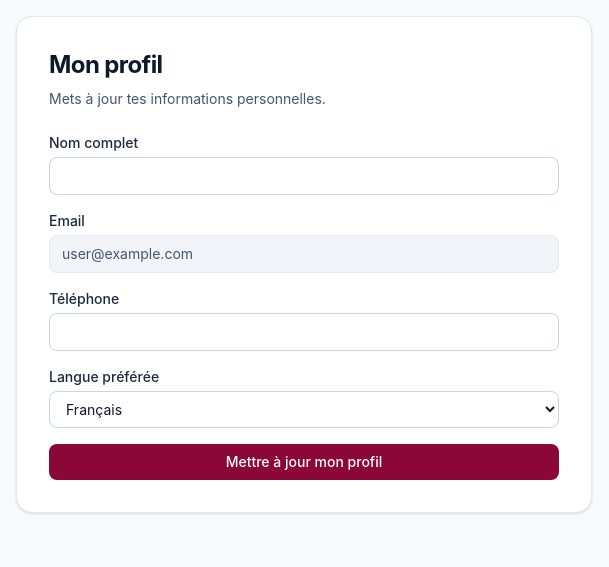
Test: ProfilePage › updates profile and displays success message
In the field labelled "Nom complet": {"x": 304, "y": 176} x1=49 y1=157 x2=559 y2=195, type "Jean Dupont"
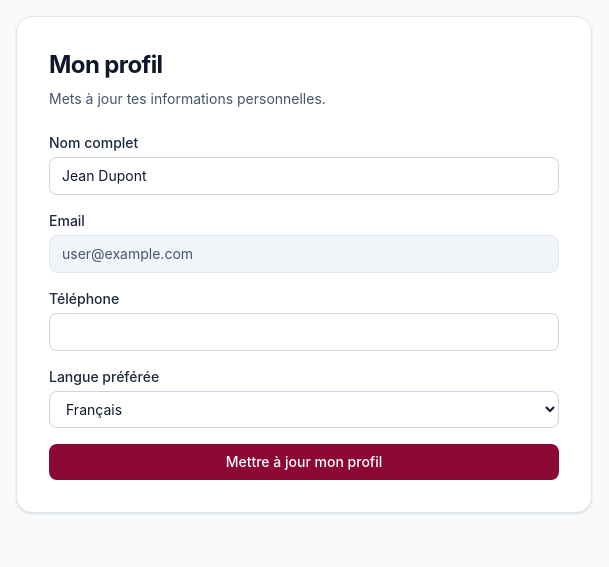
In the field labelled "Téléphone": {"x": 304, "y": 332} x1=49 y1=313 x2=559 y2=351, type "0600000000"
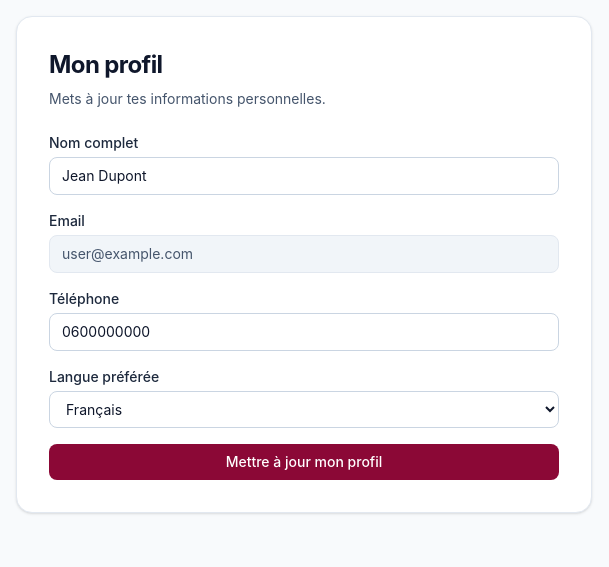
Select "English" in the dropdown labelled "Langue préférée": {"x": 304, "y": 410} x1=49 y1=391 x2=559 y2=428
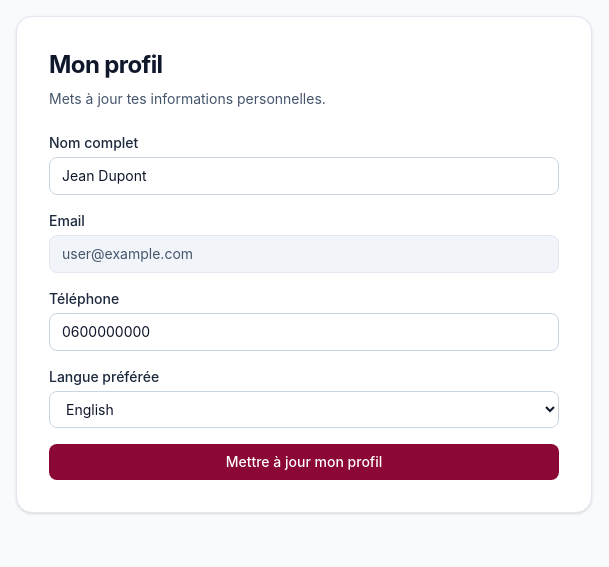
Click the button "Mettre à jour mon profil": {"x": 304, "y": 462} x1=49 y1=444 x2=559 y2=480
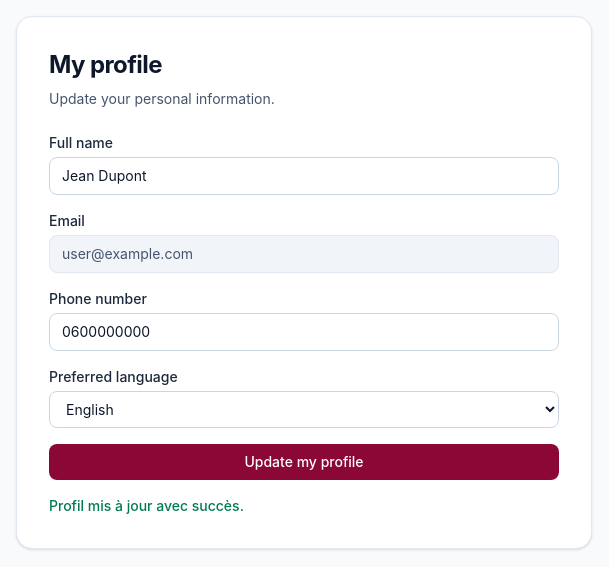
Result: the text "Profil mis à jour avec succès." is shown at x1=49 y1=497 x2=244 y2=514
